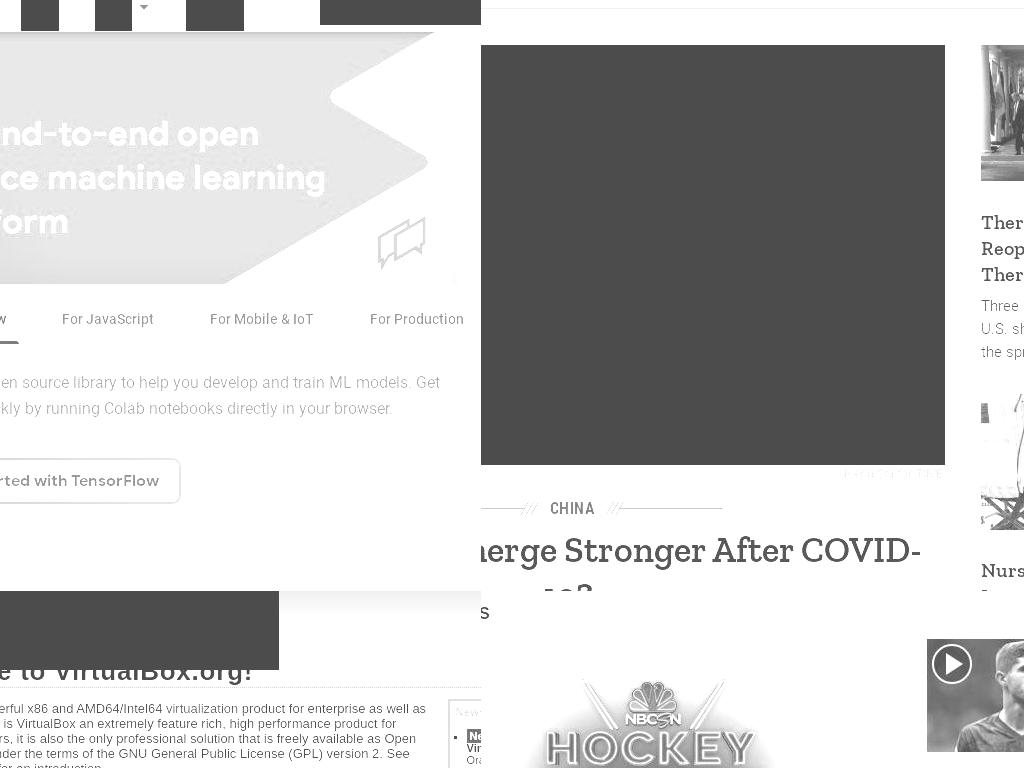button: (481, 639, 902, 768), (927, 639, 1024, 752), (549, 490, 596, 527)
field: (320, 0, 481, 25)
heading: (481, 527, 912, 591), (481, 591, 1024, 639), (0, 655, 253, 686)
image: (481, 45, 945, 465), (481, 639, 902, 768), (0, 591, 279, 670), (927, 639, 1024, 752), (932, 644, 968, 680)
link: (186, 0, 244, 31), (21, 0, 59, 31), (165, 700, 238, 716), (95, 0, 132, 31)
text: (0, 700, 426, 768), (481, 466, 945, 481), (0, 700, 166, 716), (0, 760, 106, 768), (466, 729, 481, 744)
